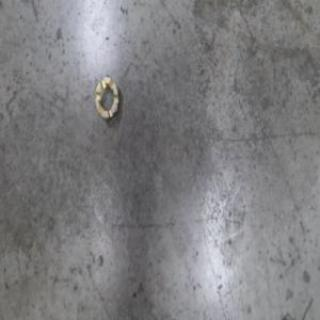Nuttrack_idkeyframe: (92, 71, 120, 121)
